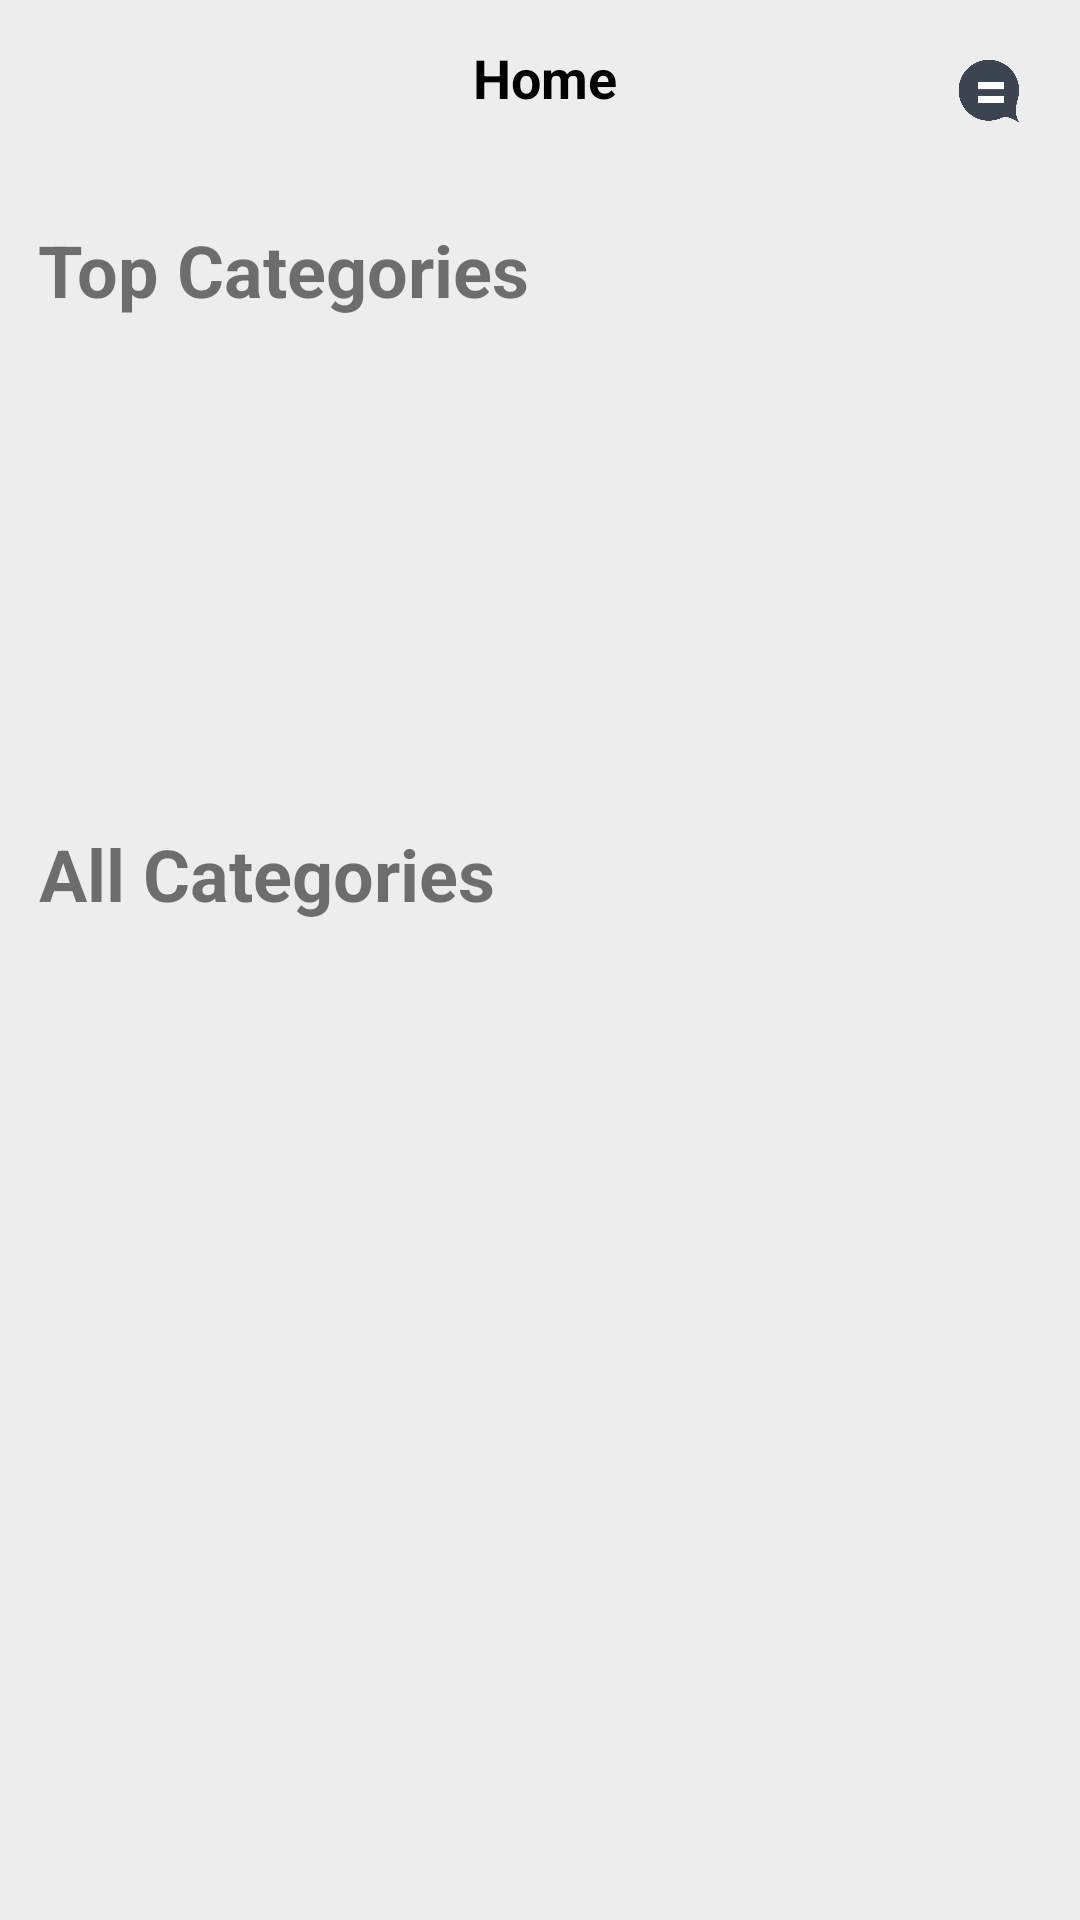

Point at icon controls on the screen. Image size 1080*1920, points as (x=x, y=y).
message: (x=989, y=91)
